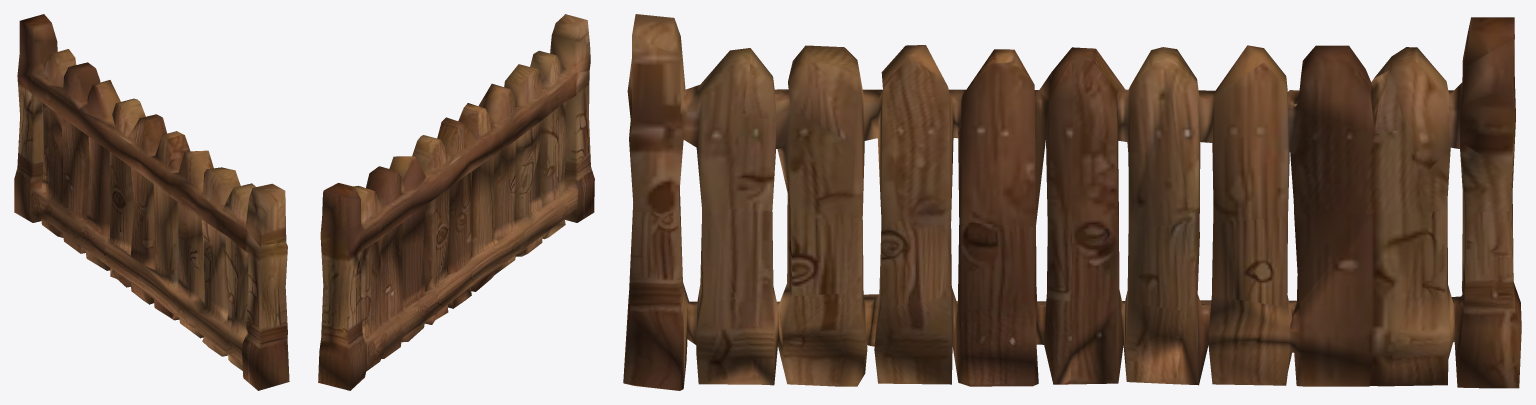
File: wooden_fence.glb
The picture shows the model from 3 angles, left to right: view 1: azimuth 30°, elevation 25°; view 2: azimuth 150°, elevation 25°; view 3: azimuth 270°, elevation 25°; orthographic projection. The views are drawn at different scales.
Visible parts, largest first — view 1: tripo_node_d40eecbb-08c9-4114-961f-c59a5310451f; view 2: tripo_node_d40eecbb-08c9-4114-961f-c59a5310451f; view 3: tripo_node_d40eecbb-08c9-4114-961f-c59a5310451f.
Boxes of the visible parts, x1,y1,x2,y2 form: tripo_node_d40eecbb-08c9-4114-961f-c59a5310451f: (14,14,289,390); tripo_node_d40eecbb-08c9-4114-961f-c59a5310451f: (318,14,594,390); tripo_node_d40eecbb-08c9-4114-961f-c59a5310451f: (623,14,1521,390).
Bounding box in the file's own units: 0.0741 × 0.4133 × 0.9495.
Materials: 1 (1 with a texture image).
